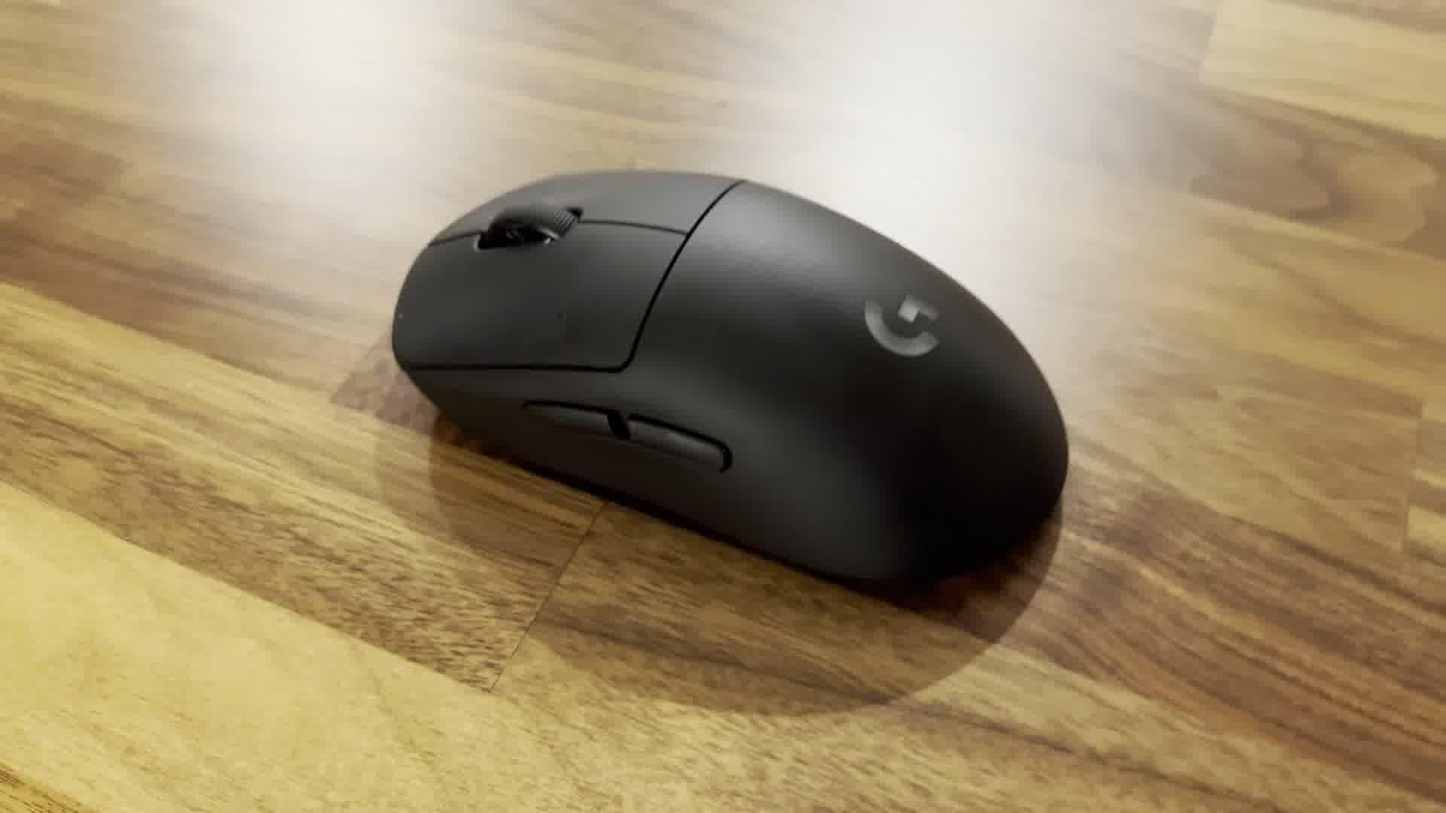mouse: (385, 160, 1072, 601)
